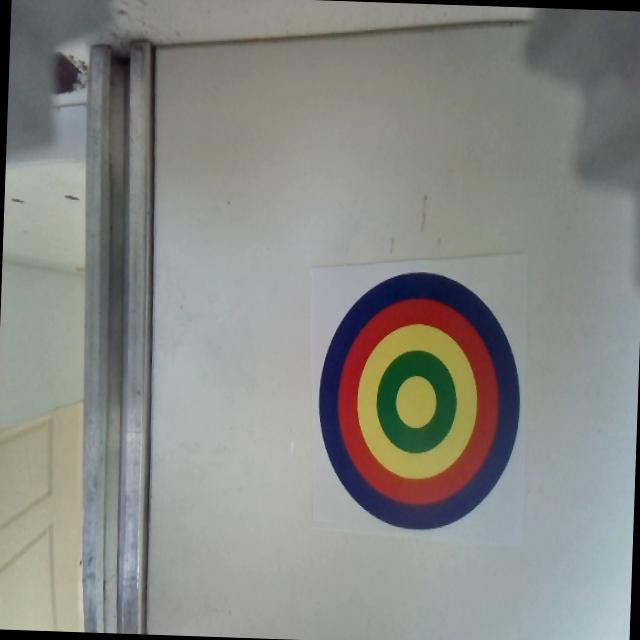cogn: (313, 267, 525, 534)
